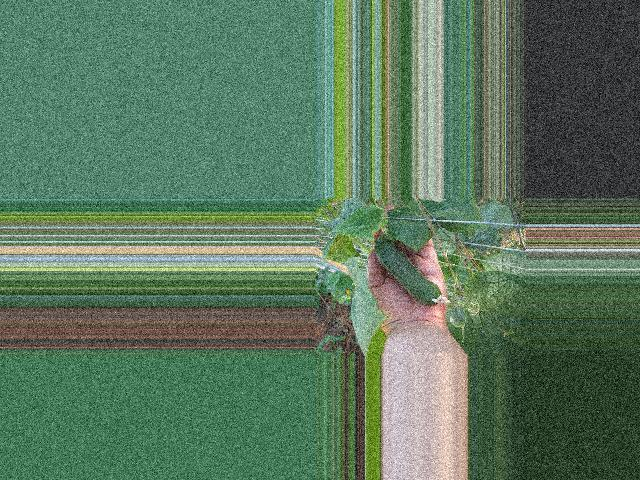cucumber: (375, 238, 451, 305)
